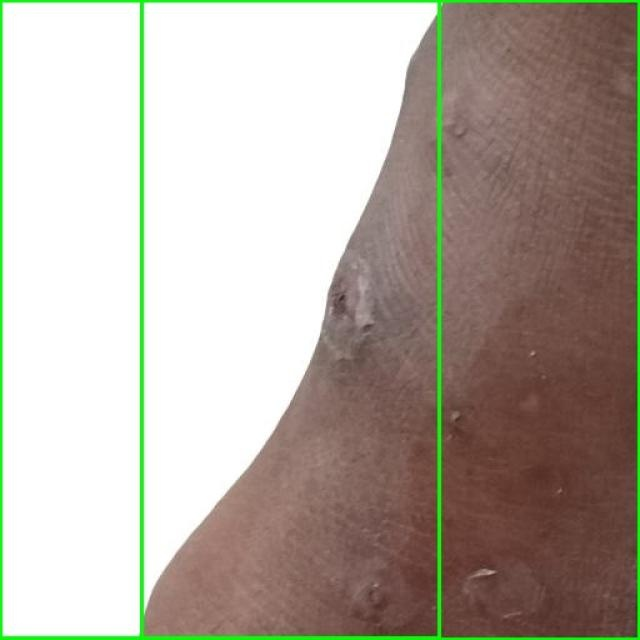Eczema: (141, 0, 639, 639), (0, 0, 440, 639)
